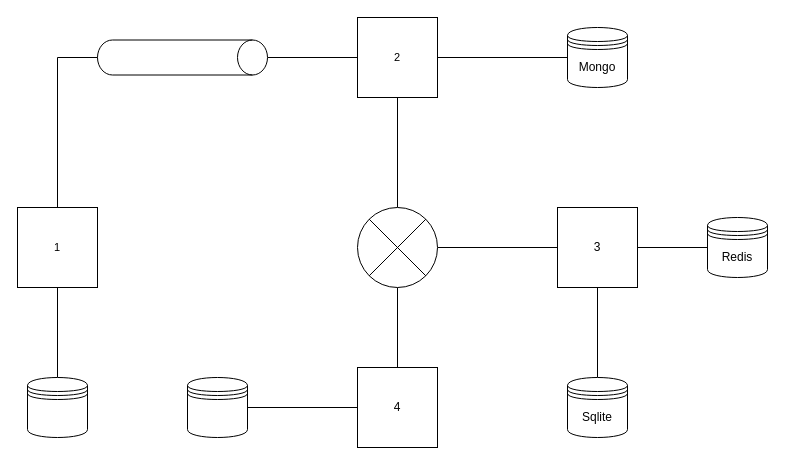
The diagram is 785 pixels wide and 465 high, and some of its shapes have lost their labels. The shapes that lost their labels are listed below. From the top down, each one's centre as x and y in pixels, then its label:
(x=182, y=57): Kafka
(x=397, y=247): Envoy
(x=57, y=407): ClickHouse
(x=217, y=407): Neo4j
